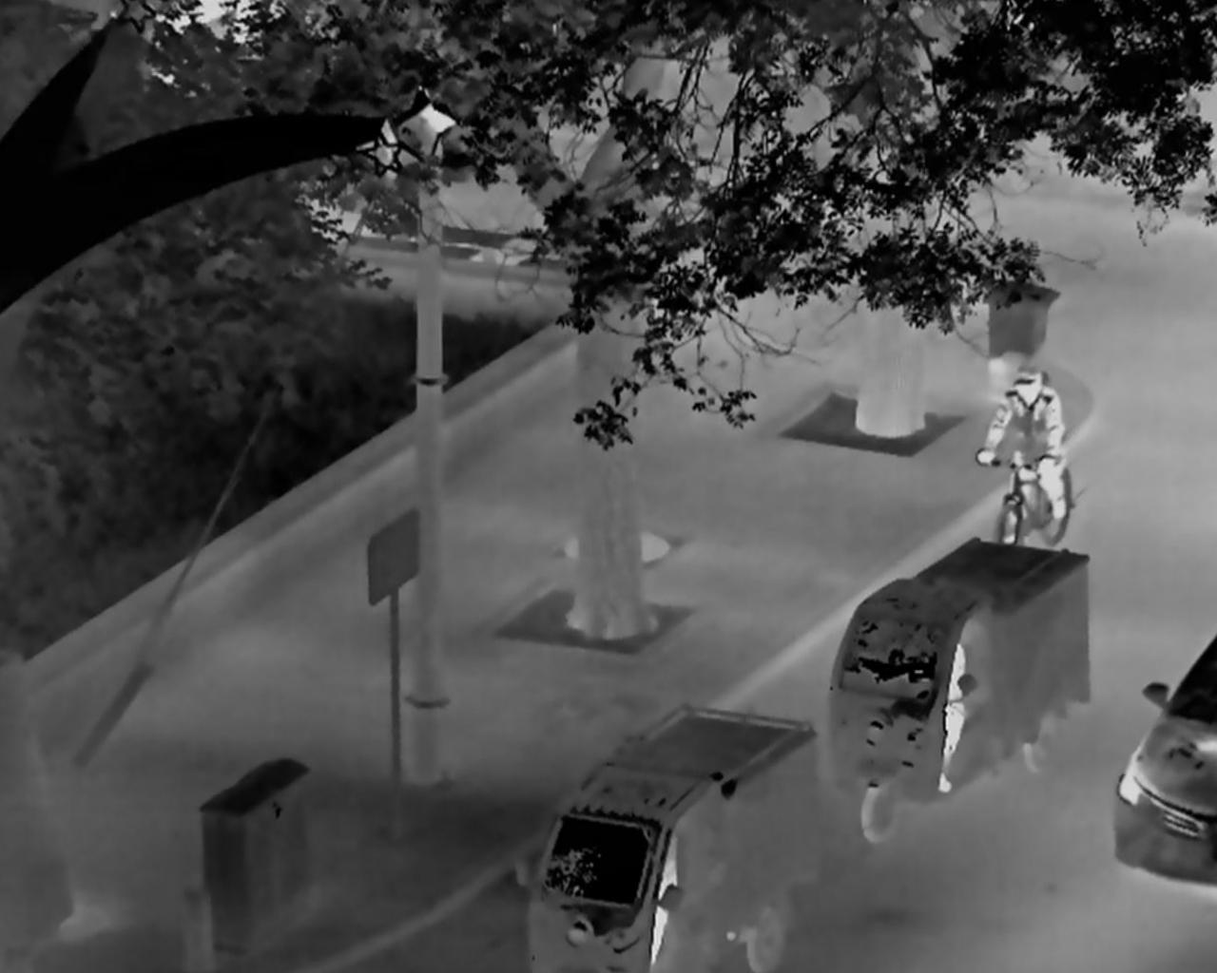person: (976, 360, 1069, 544), (638, 831, 678, 965), (937, 642, 967, 793)
